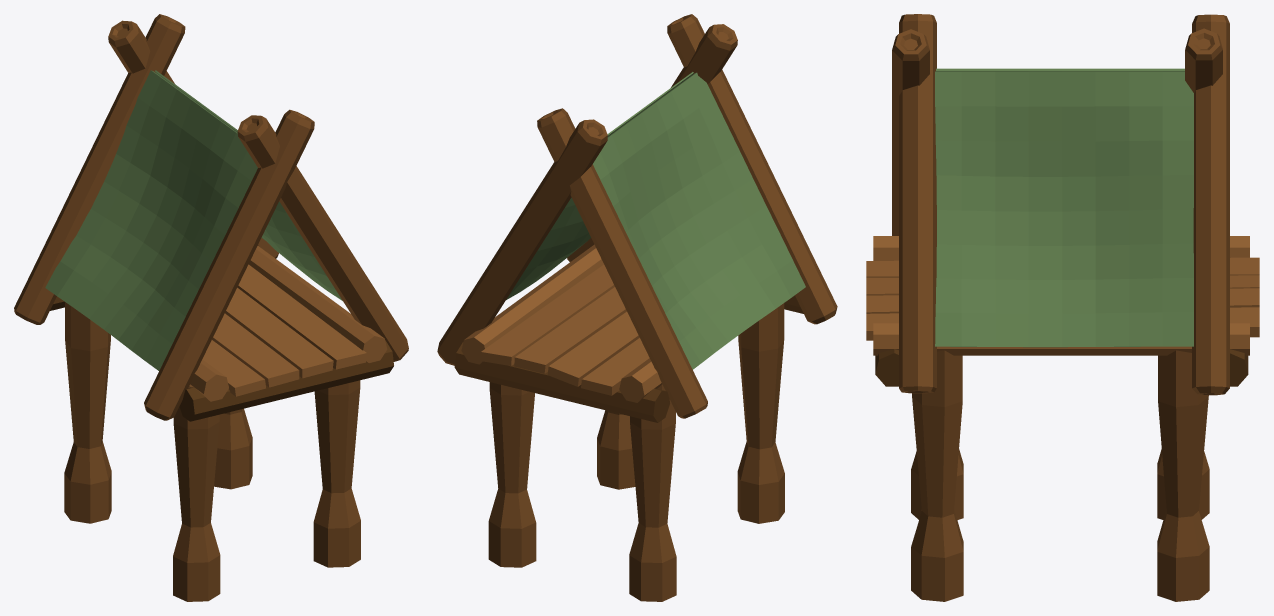
The model's file is B_A_TowerGreen.fbx.
3 renders of one model, left to right at view 1: azimuth 30°, elevation 25°; view 2: azimuth 150°, elevation 25°; view 3: azimuth 270°, elevation 25°, orthographic. The views are drawn at different scales.
Visible parts, largest first — view 1: B_A_TowerGreen; view 2: B_A_TowerGreen; view 3: B_A_TowerGreen.
Part boxes in pixels (box(x1,y1,x2,y2)): B_A_TowerGreen: box(14, 14, 408, 601); B_A_TowerGreen: box(437, 14, 837, 601); B_A_TowerGreen: box(866, 14, 1259, 601).
Size of the model in its own units: 345 by 585 by 394.
